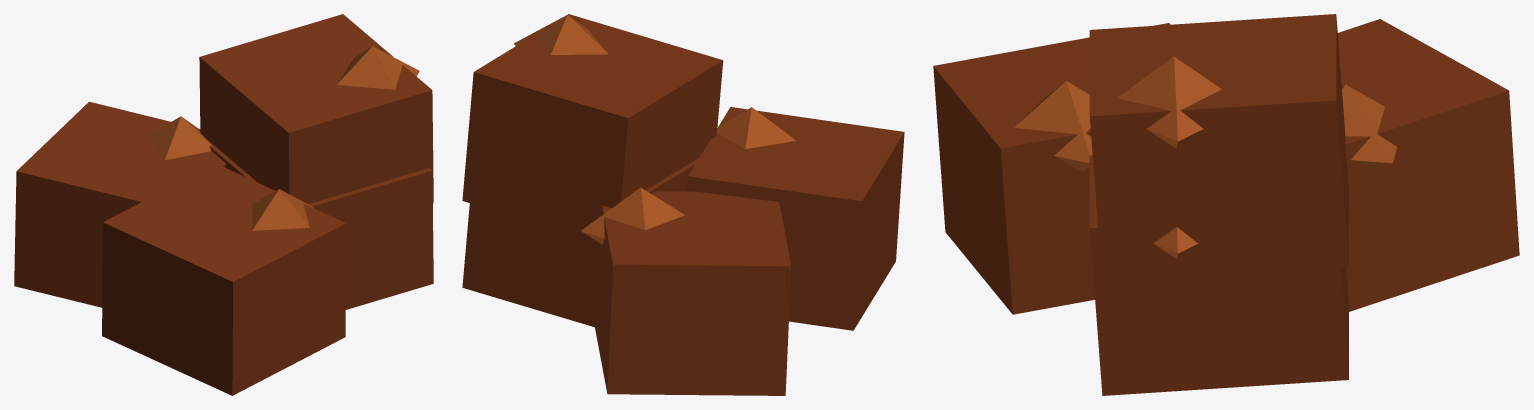
Rendered from pile-soil-4.obj.
3 views of the same model, side by side, from view 1: azimuth 30°, elevation 25°; view 2: azimuth 150°, elevation 25°; view 3: azimuth 270°, elevation 25° (orthographic). The views are drawn at different scales.
Parts seen in each view (by area): view 1: pile-soil-4; view 2: pile-soil-4; view 3: pile-soil-4.
Part boxes in pixels (x1,y1,x2,y2): pile-soil-4: (14, 14, 433, 395); pile-soil-4: (462, 14, 904, 395); pile-soil-4: (933, 14, 1519, 395).
Size of the model in its own units: 0.6436 by 0.4374 by 0.7118.
1 material, 1 textured.
